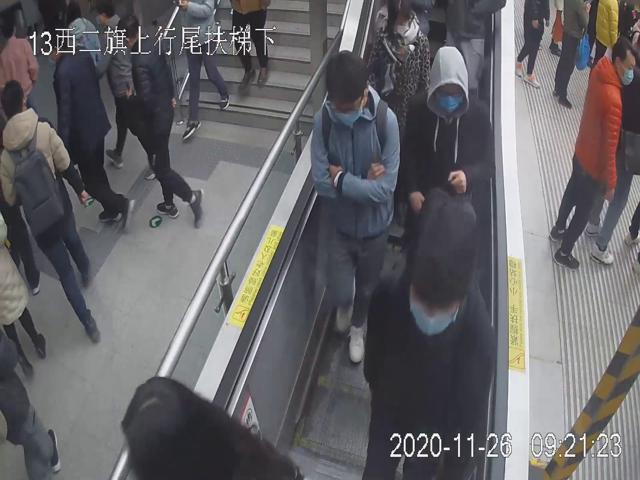person: (363, 187, 495, 480), (309, 49, 401, 364), (548, 36, 635, 270), (402, 45, 497, 213), (366, 0, 429, 127)
